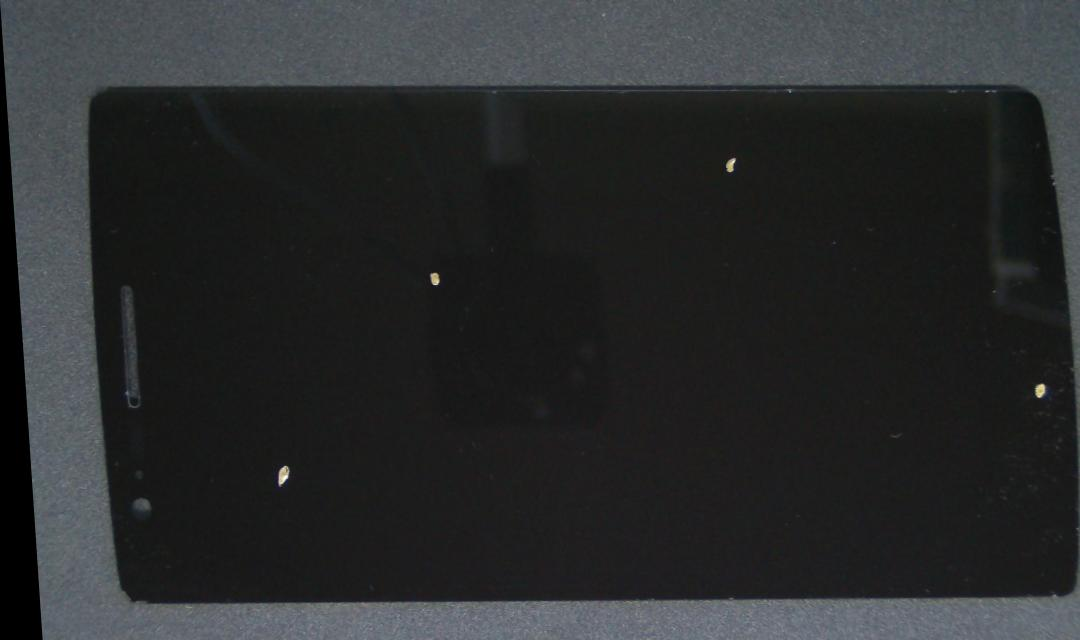Scratches: (704, 144, 783, 210), (993, 356, 1056, 425), (270, 446, 313, 514), (406, 258, 468, 305)
